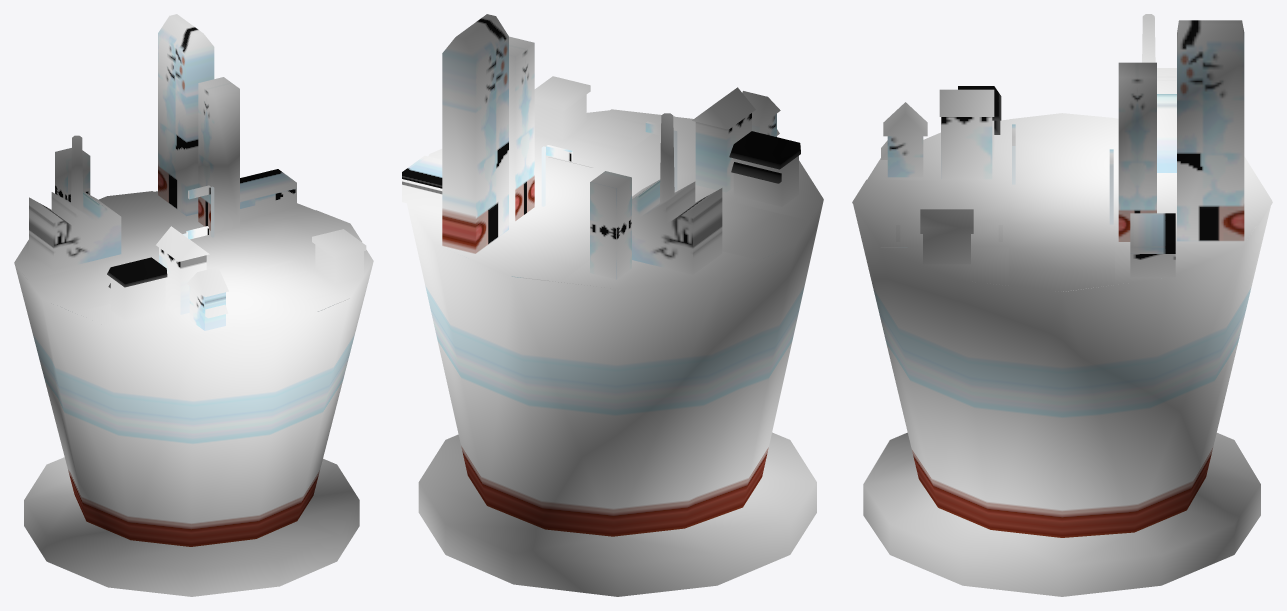
The model's file is STATIC.ICO.obj.
3 renders of one model, left to right at view 1: azimuth 30°, elevation 25°; view 2: azimuth 150°, elevation 25°; view 3: azimuth 270°, elevation 25°, orthographic. The views are drawn at different scales.
Size of the model in its own units: 3.29 by 4.5 by 3.28.
